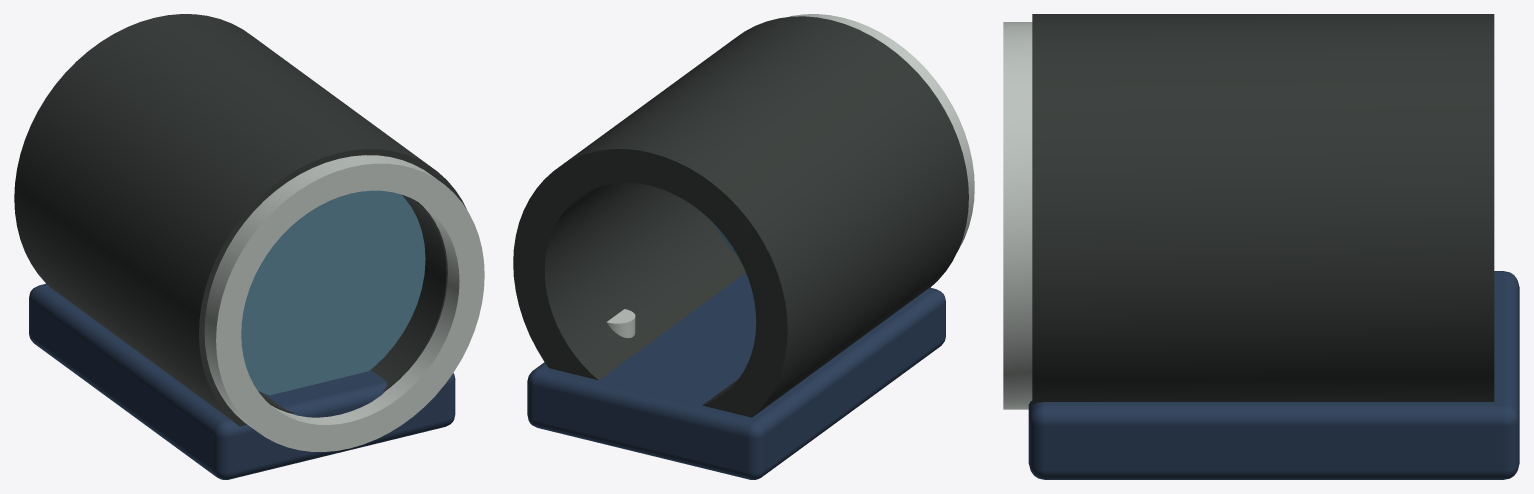
The model's file is planetarium-and-optical-observatory-optical-aperture-m-0cc99f48__31828.glb.
3 views of the same model, side by side, from view 1: azimuth 30°, elevation 25°; view 2: azimuth 150°, elevation 25°; view 3: azimuth 270°, elevation 25° (orthographic). The views are drawn at different scales.
Parts seen in each view (by area): view 1: optical-aperture-module; view 2: optical-aperture-module; view 3: optical-aperture-module.
Part boxes in pixels (bbox=[...]): optical-aperture-module: bbox=[14, 14, 484, 479]; optical-aperture-module: bbox=[513, 14, 974, 479]; optical-aperture-module: bbox=[1003, 14, 1519, 479].
Size of the model in its own units: 0.14 by 0.145 by 0.1788.
